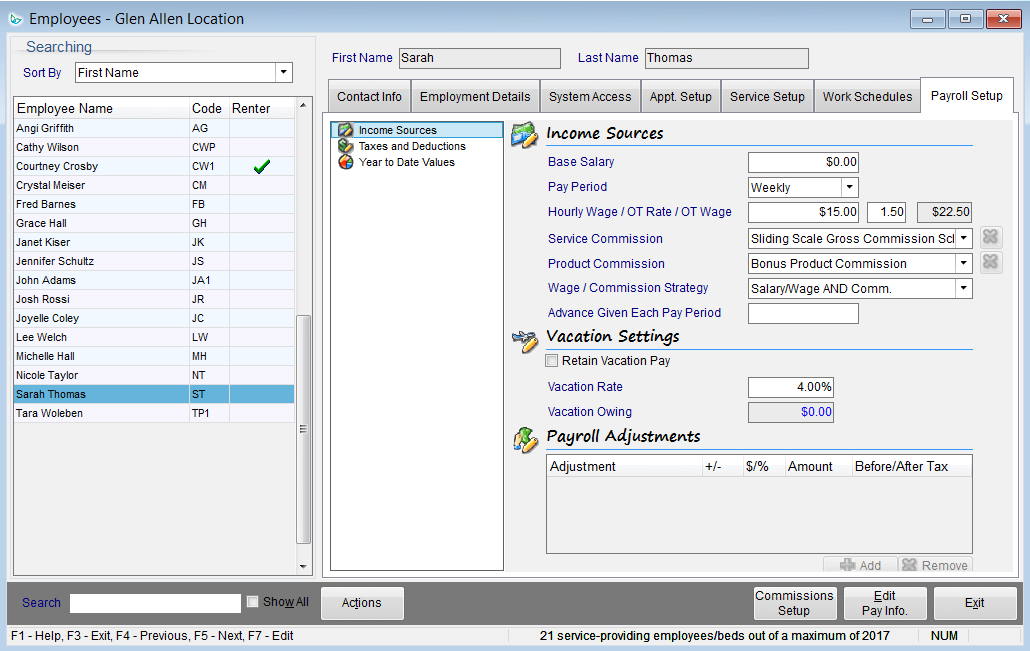BUTTON: (751, 585, 841, 622), (932, 584, 1018, 622), (319, 585, 406, 622), (842, 585, 928, 622)
CHECKBOX_UNCHECKED: (543, 352, 559, 368), (244, 594, 260, 609)
COLUMN: (14, 97, 190, 423), (230, 94, 295, 423), (190, 94, 230, 423)
DROPDOWN: (746, 251, 975, 275), (747, 276, 972, 300), (747, 228, 975, 250), (73, 61, 295, 83), (748, 176, 860, 200)
DROPDOWN_HANDLE: (954, 253, 973, 274), (275, 62, 293, 83), (840, 177, 858, 198), (955, 278, 973, 299), (956, 228, 972, 249)
HEADER_ROW: (12, 96, 293, 118)
IMAGEBUTTON: (985, 7, 1023, 28), (947, 8, 984, 29), (910, 10, 946, 28), (979, 250, 1003, 274), (979, 227, 1002, 248)
ROW: (12, 117, 295, 138), (12, 231, 295, 252), (12, 250, 295, 271), (12, 268, 295, 289), (13, 288, 296, 309), (12, 306, 295, 327), (11, 325, 294, 346), (13, 344, 296, 365), (12, 365, 295, 386), (12, 383, 295, 404), (10, 402, 293, 423), (11, 193, 294, 214), (12, 173, 295, 194), (12, 139, 295, 160), (11, 156, 297, 174), (10, 214, 295, 232)
SCROLLBAR_VERTICAL: (294, 95, 312, 576)
SCROLLBAR_VERTICAL_BAR: (296, 315, 310, 545)
SCROLLBAR_VERTICAL_HANDLE_DOWN: (294, 557, 315, 577)
SCROLLBAR_VERTICAL_HANDLE_UP: (293, 95, 311, 113)
TAB: (410, 77, 540, 113), (813, 77, 921, 112), (920, 75, 1015, 113), (538, 79, 640, 112), (720, 78, 814, 112), (328, 79, 412, 112), (640, 79, 722, 112)
TABLE: (12, 96, 295, 420)
TEXTBOX: (398, 46, 562, 70), (644, 47, 810, 70), (68, 593, 242, 613), (747, 151, 860, 175), (748, 301, 860, 324), (747, 201, 859, 223), (747, 375, 834, 397), (748, 401, 835, 422), (916, 201, 972, 223), (865, 200, 908, 224)
